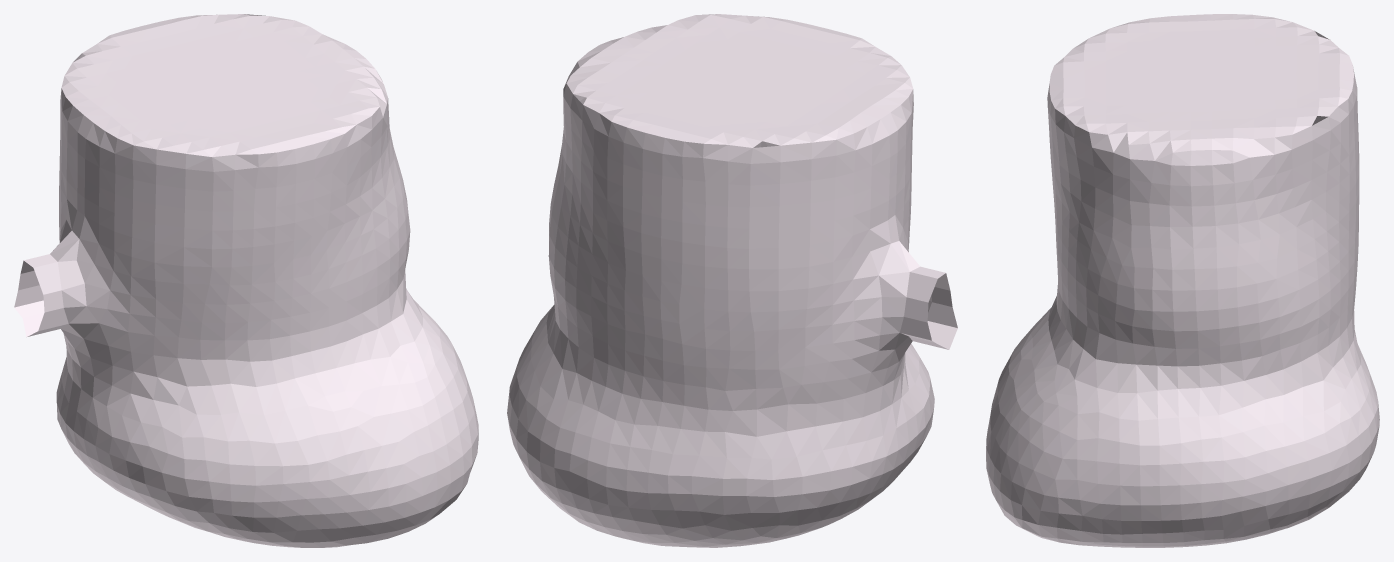
The model's file is kuromipiernaizq.obj.
3 renders of one model, left to right at view 1: azimuth 30°, elevation 25°; view 2: azimuth 150°, elevation 25°; view 3: azimuth 270°, elevation 25°, orthographic. The views are drawn at different scales.
Visible parts, largest first — view 1: SubTool-3-3928544.001_Material.027; view 2: SubTool-3-3928544.001_Material.027; view 3: SubTool-3-3928544.001_Material.027.
Part boxes in pixels (x1,y1,x2,y2): SubTool-3-3928544.001_Material.027: (14, 14, 478, 547); SubTool-3-3928544.001_Material.027: (507, 14, 957, 547); SubTool-3-3928544.001_Material.027: (986, 14, 1379, 547).
Bounding box in the file's own units: 0.6765 × 0.691 × 0.5798.
